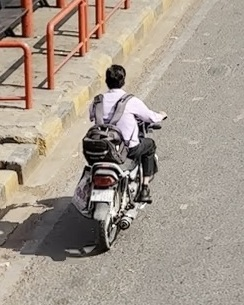BikeWithRider: (66, 60, 170, 254)
NoHelmet: (100, 60, 131, 93)
